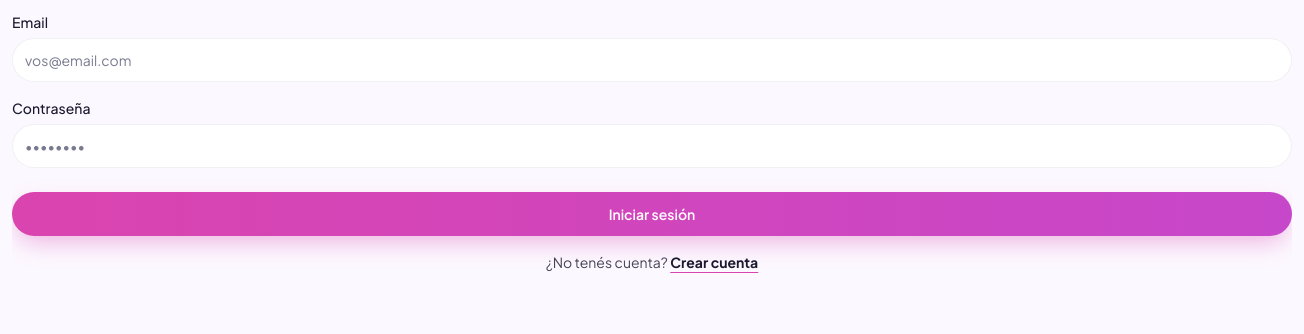
it: LoginForm › submit vacío muestra errores de Zod
Click the button "Iniciar sesión": [652, 214] box x1=12 y1=192 x2=1292 y2=236
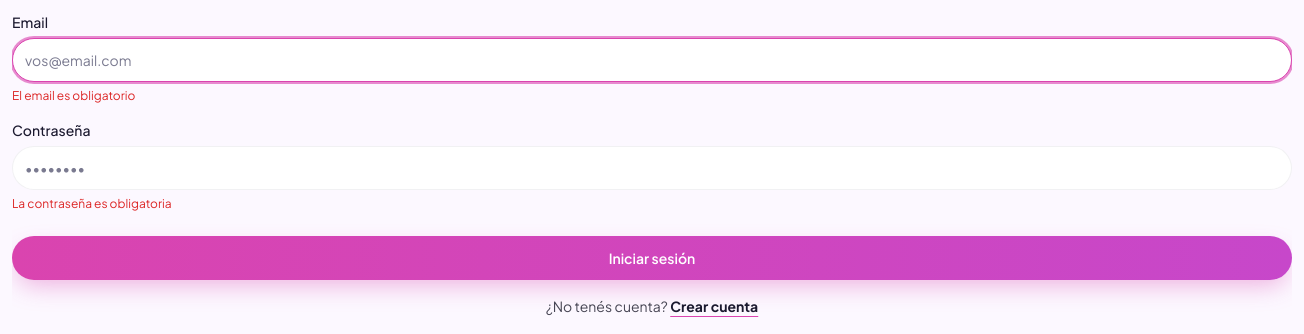
Now the text "El email es obligatorio" is shown, box x1=12 y1=88 x2=135 y2=103
Now the text "La contraseña es obligatoria" is shown, box x1=12 y1=196 x2=172 y2=211
